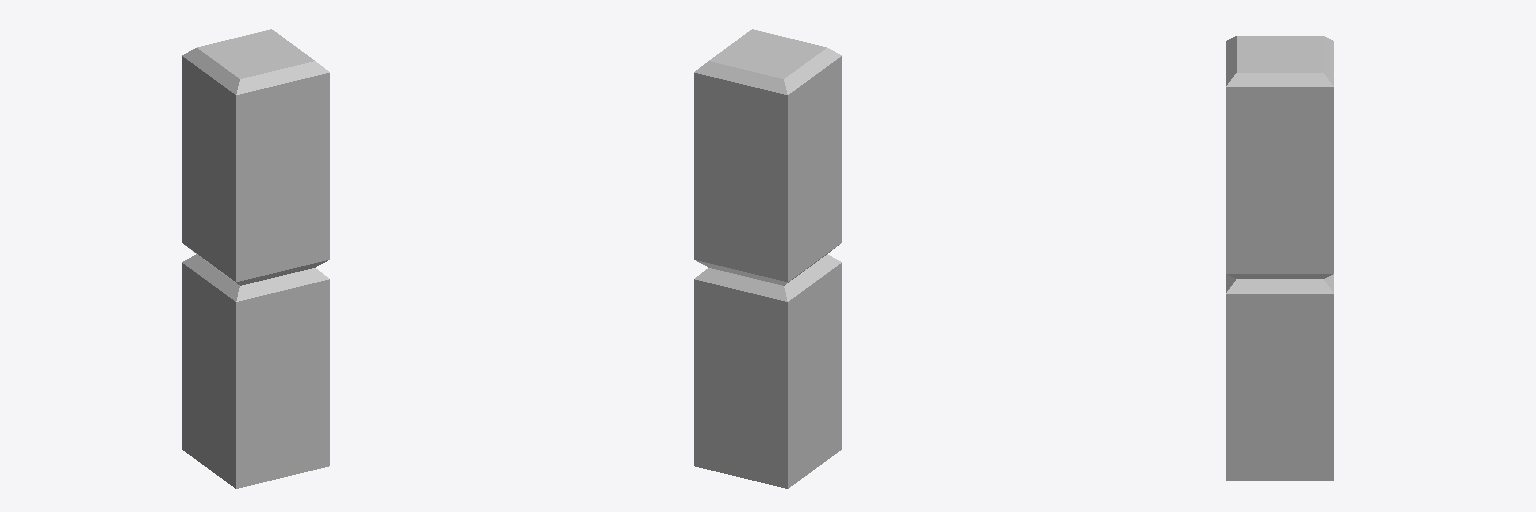
The model's file is pillar_B.obj.
The picture shows the model from 3 angles: view 1: azimuth 30°, elevation 25°; view 2: azimuth 150°, elevation 25°; view 3: azimuth 270°, elevation 25°; orthographic projection.
Visible parts, largest first — view 1: pillar_B_Cube.150; view 2: pillar_B_Cube.150; view 3: pillar_B_Cube.150.
Part boxes in pixels (bbox=[...]): pillar_B_Cube.150: bbox=[182, 29, 329, 488]; pillar_B_Cube.150: bbox=[694, 29, 841, 488]; pillar_B_Cube.150: bbox=[1226, 36, 1333, 480].
Size of the model in its own units: 1 by 4.1 by 1.